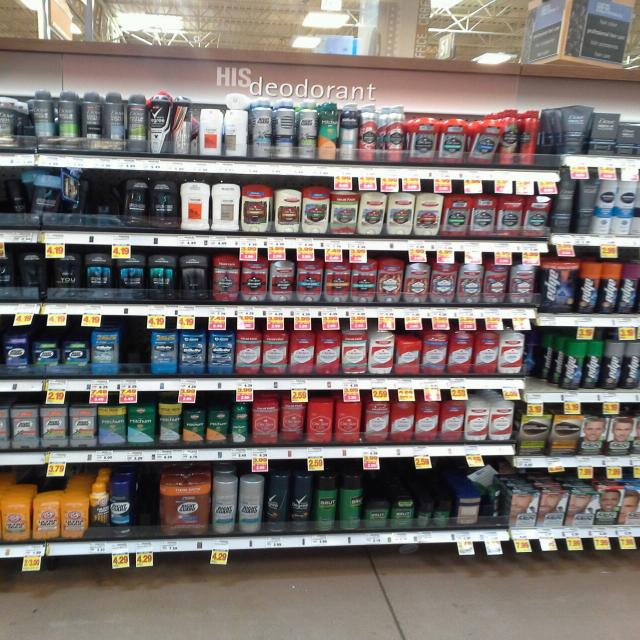empty: (126, 467, 173, 538), (83, 176, 131, 241), (114, 323, 154, 384)
